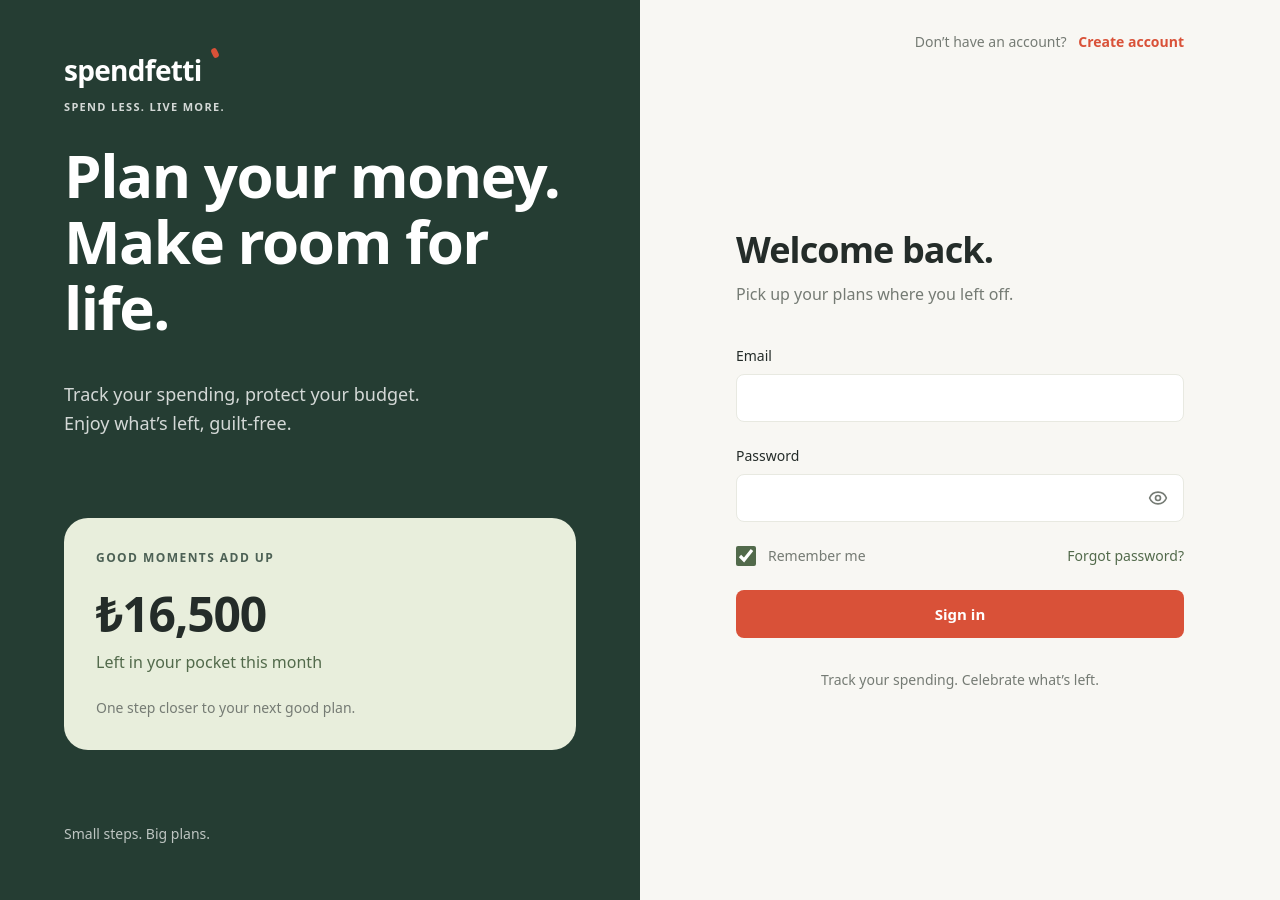
Test: LoginPage › sends credentials and shows server errors
Type "ada@example.com" into the field labelled "Email" at (960, 398), box [736,374,1184,422]
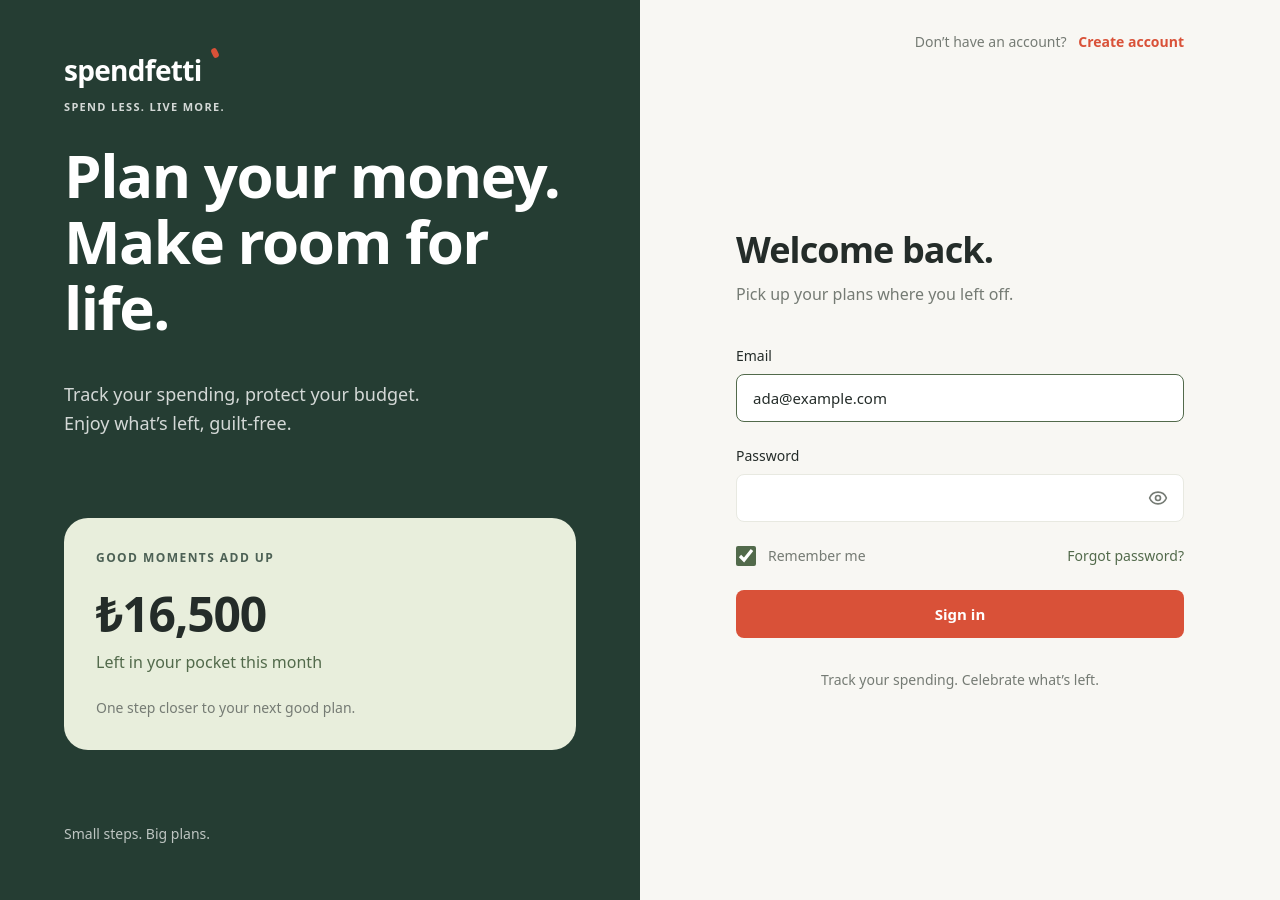
Type "wrong-pass-1" into the password field labelled "Password" at (960, 498), box [736,474,1184,522]
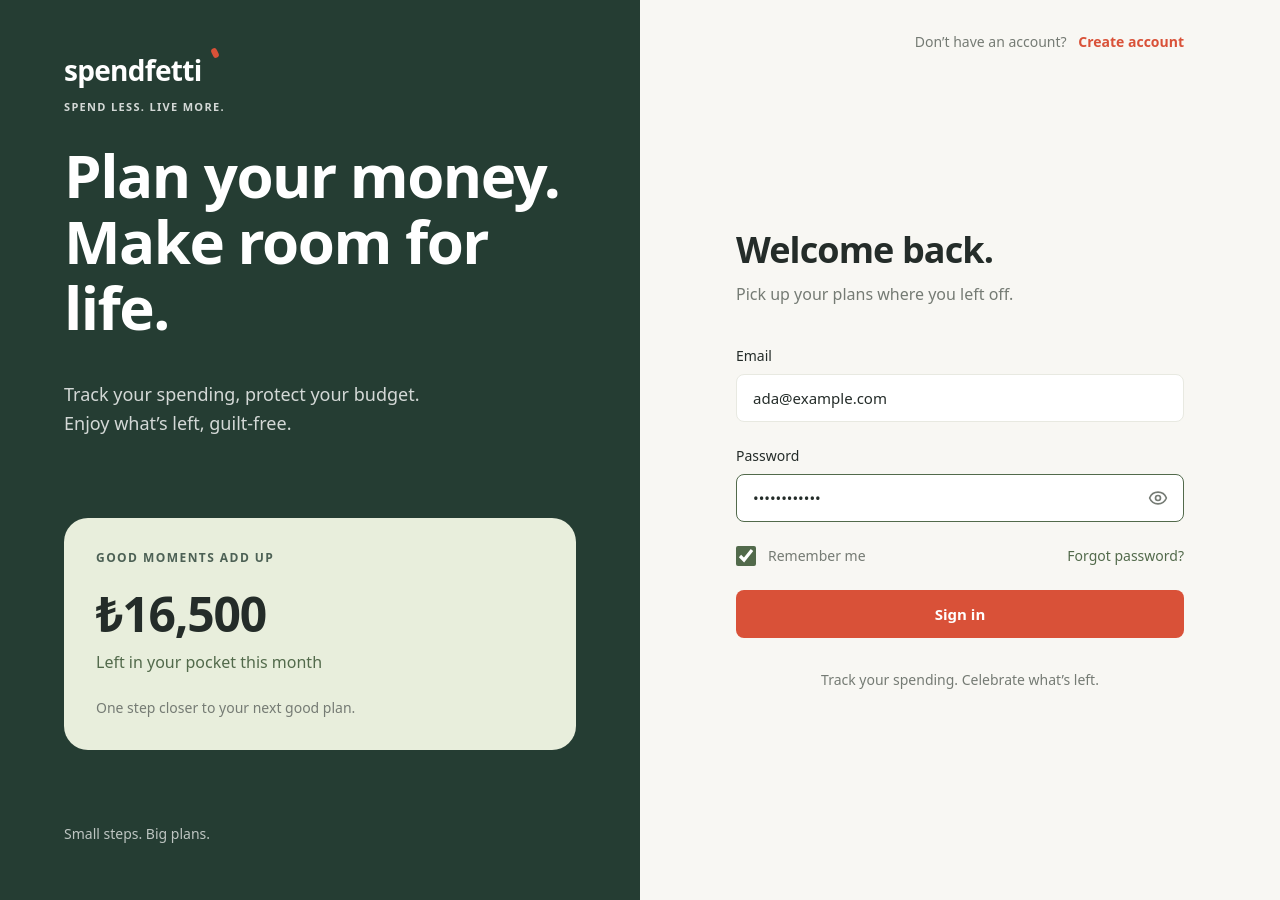
Click the checkbox labelled "Remember me" at (746, 556), box [736,546,756,566]
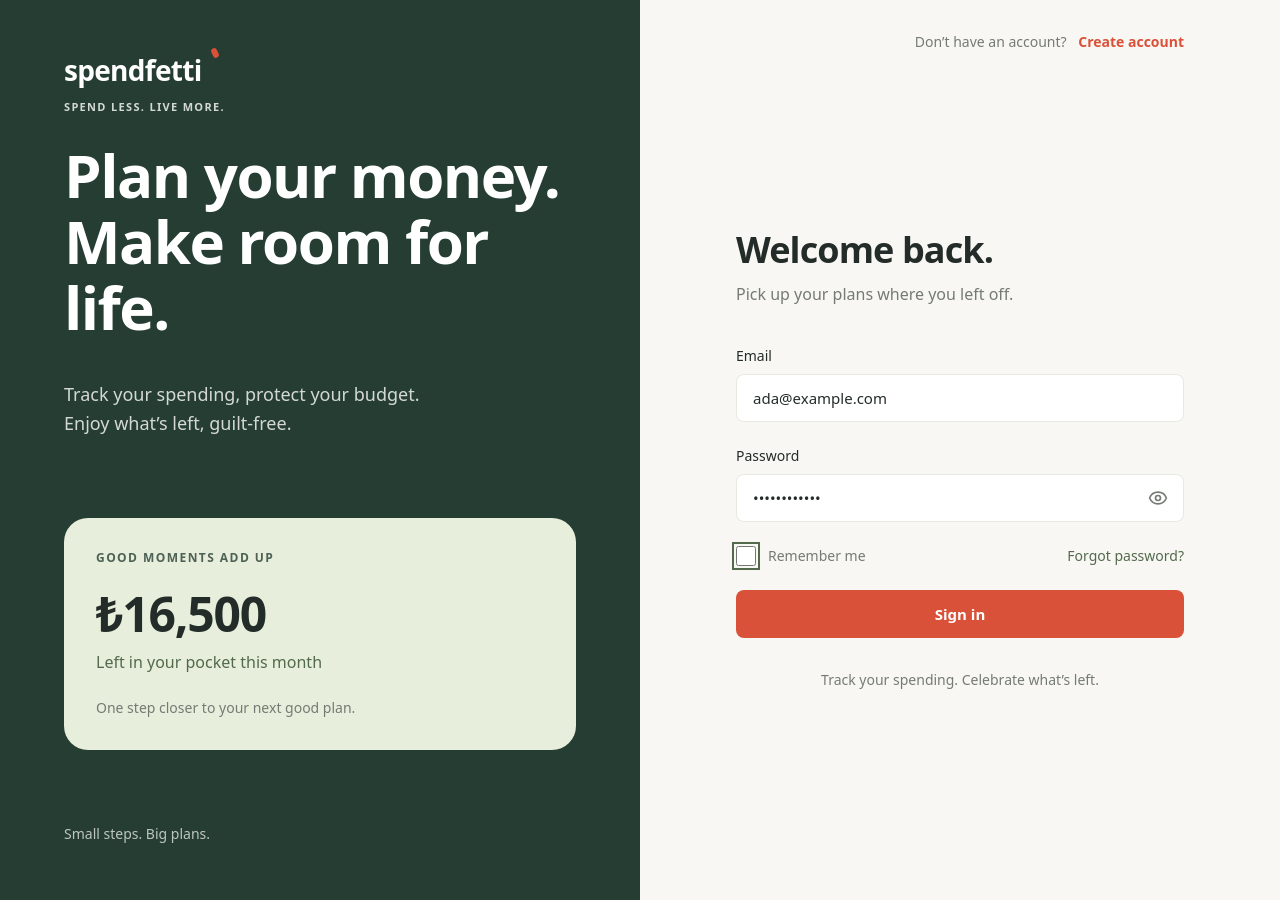
Click the button "Sign in" at (960, 614), box [736,590,1184,638]
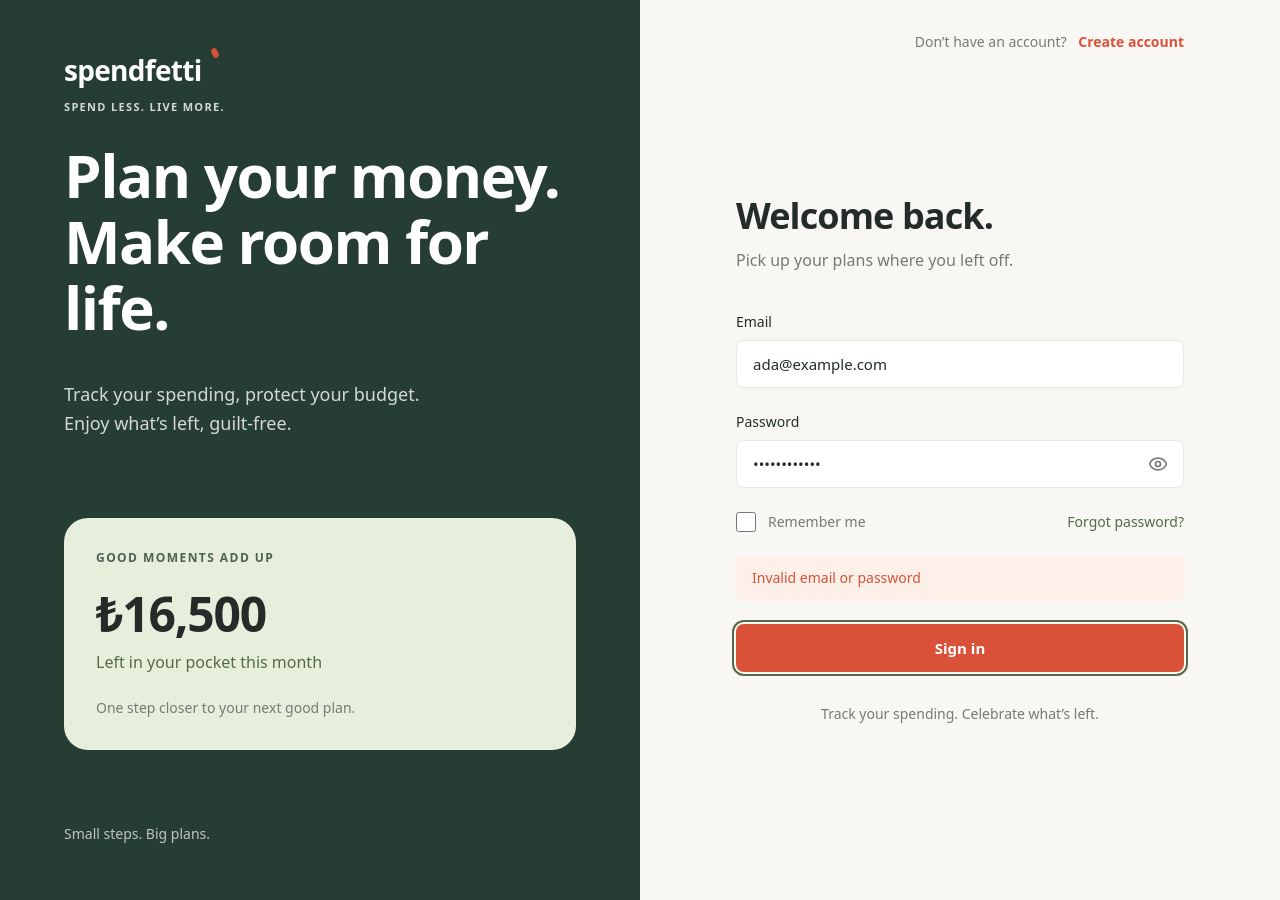
Expected: the message reads "Invalid email or password", [752,568,921,587]
